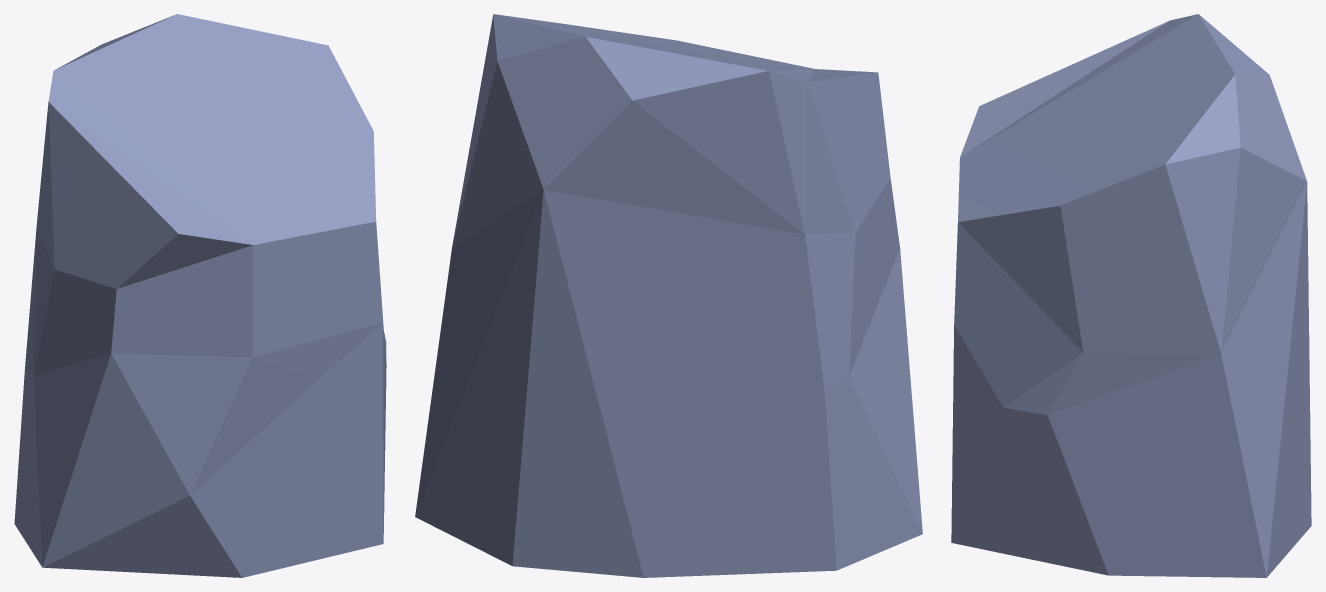
Rendered from Rock_3.fbx.
3 views of the same model, side by side, from view 1: azimuth 30°, elevation 25°; view 2: azimuth 150°, elevation 25°; view 3: azimuth 270°, elevation 25° (orthographic). The views are drawn at different scales.
Visible parts, largest first — view 1: Rock_3; view 2: Rock_3; view 3: Rock_3.
Boxes of the visible parts, x1=… form: Rock_3: x1=14, y1=14, x2=386, y2=577; Rock_3: x1=415, y1=14, x2=922, y2=577; Rock_3: x1=951, y1=14, x2=1311, y2=577.
Size of the model in its own units: 1.65 by 2.02 by 1.48.
